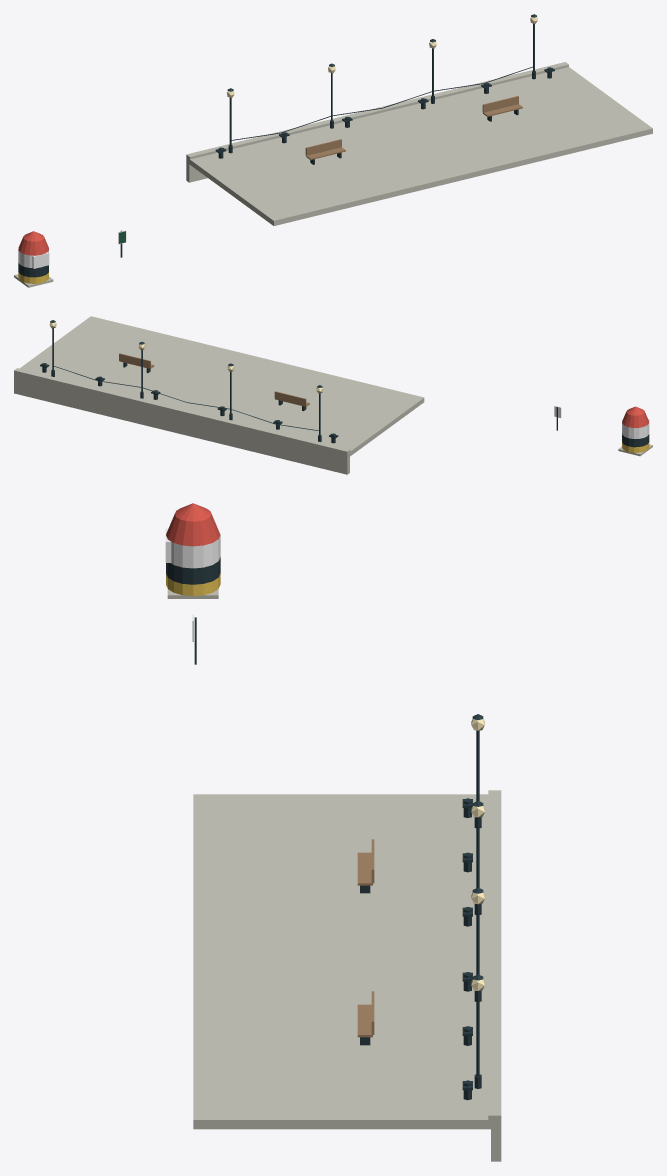
Rendered from keys-landmarks.glb.
3 views of the same model, one above another, from view 1: azimuth 30°, elevation 25°; view 2: azimuth 150°, elevation 25°; view 3: azimuth 270°, elevation 25° (orthographic). The views are drawn at different scales.
Parts seen in each view (by area): view 1: mallory_pier_body, southernmost_buoy_body; view 2: mallory_pier_body, southernmost_buoy_body; view 3: mallory_pier_body, southernmost_buoy_body.
Boxes of the visible parts, <box> form: mallory_pier_body: <box>186,14,652,225</box>; southernmost_buoy_body: <box>14,231,53,287</box>; mallory_pier_body: <box>14,316,424,474</box>; southernmost_buoy_body: <box>618,406,652,456</box>; mallory_pier_body: <box>193,714,501,1161</box>; southernmost_buoy_body: <box>165,503,220,598</box>.
Bounding box in the file's own units: 50.07 × 6.66 × 13.07.
